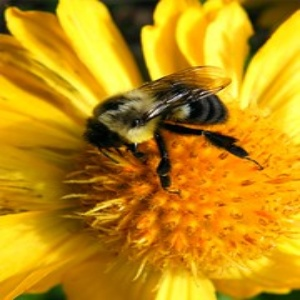bee: (80, 66, 267, 196)
